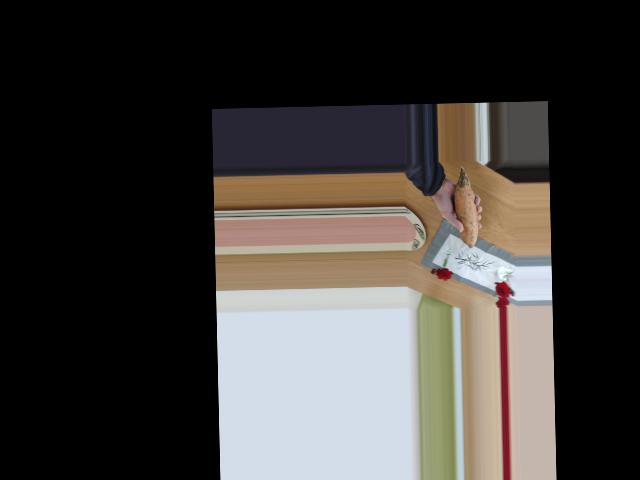sweet_potato: (446, 173, 481, 250)
